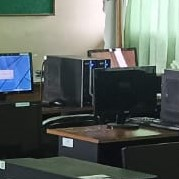monitor: (43, 67, 157, 131), (41, 55, 111, 117), (93, 67, 157, 117), (0, 52, 34, 95), (87, 47, 138, 68)
